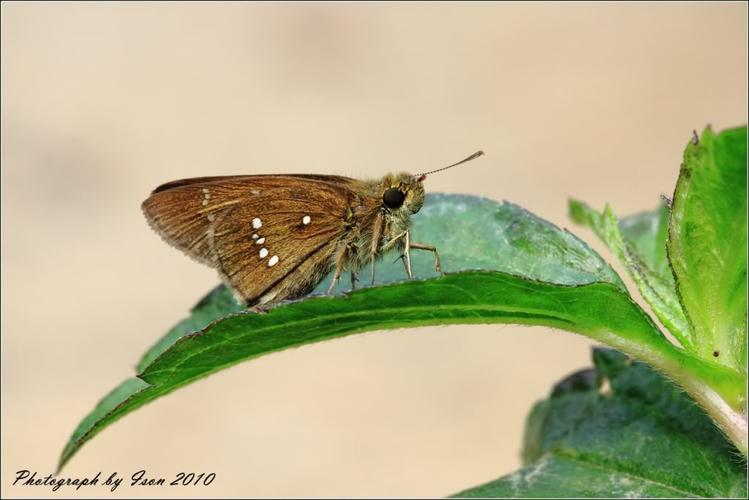Hesperiidae: (139, 144, 488, 319)
